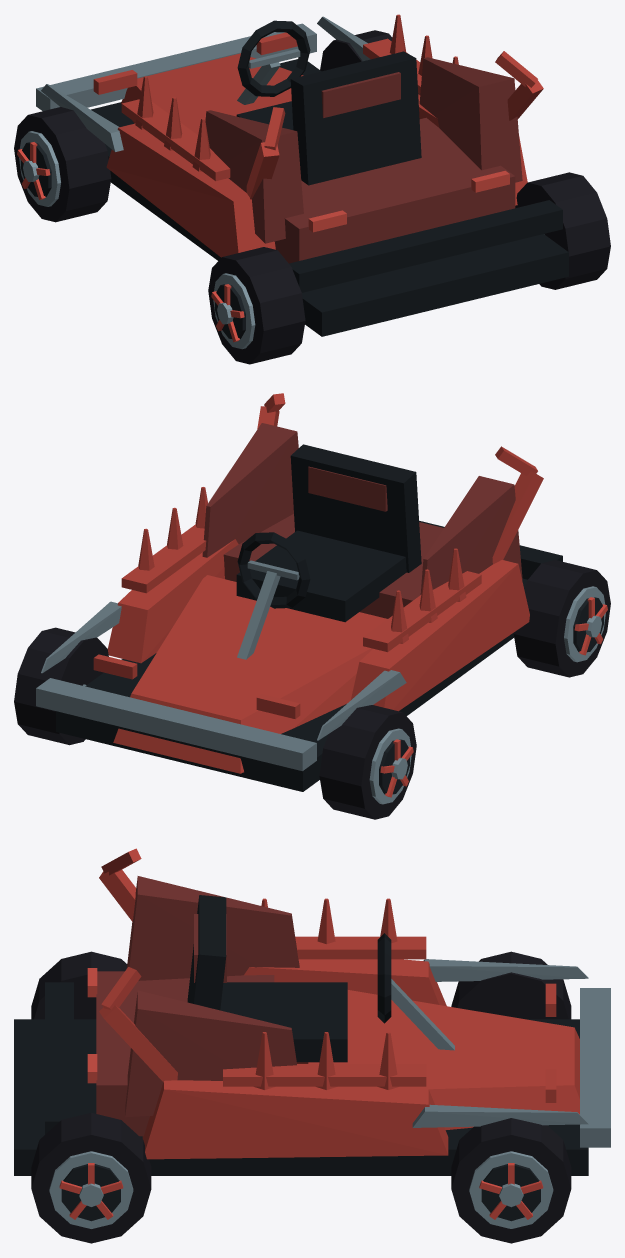
File: kart.glb
3 views of the same model, one above another, from view 1: azimuth 30°, elevation 25°; view 2: azimuth 150°, elevation 25°; view 3: azimuth 270°, elevation 25° (orthographic). The views are drawn at different scales.
Visible parts, largest first — view 1: chassis, wheel-rear-left, wheel-front-left, wheel-rear-right, wheel-front-right; view 2: chassis, wheel-front-left, wheel-rear-left, wheel-front-right; view 3: chassis, wheel-rear-right, wheel-front-right, wheel-front-left, wheel-rear-left.
Part boxes in pixels (x1=…): chassis: x1=36, y1=14, x2=568, y2=336; wheel-rear-left: x1=208, y1=247, x2=305, y2=364; wheel-front-left: x1=14, y1=107, x2=111, y2=222; wheel-rear-right: x1=515, y1=172, x2=610, y2=289; wheel-front-right: x1=320, y1=30, x2=392, y2=71; chassis: x1=36, y1=393, x2=562, y2=791; wheel-front-left: x1=319, y1=705, x2=416, y2=819; wheel-rear-left: x1=513, y1=560, x2=610, y2=677; wheel-front-right: x1=14, y1=627, x2=108, y2=745; chassis: x1=14, y1=848, x2=610, y2=1175; wheel-rear-right: x1=31, y1=1112, x2=151, y2=1243; wheel-front-right: x1=451, y1=1118, x2=571, y2=1243; wheel-front-left: x1=451, y1=951, x2=571, y2=1019; wheel-rear-left: x1=31, y1=951, x2=127, y2=1019.
Size of the model in its own units: 2.41 by 1.38 by 3.09.
